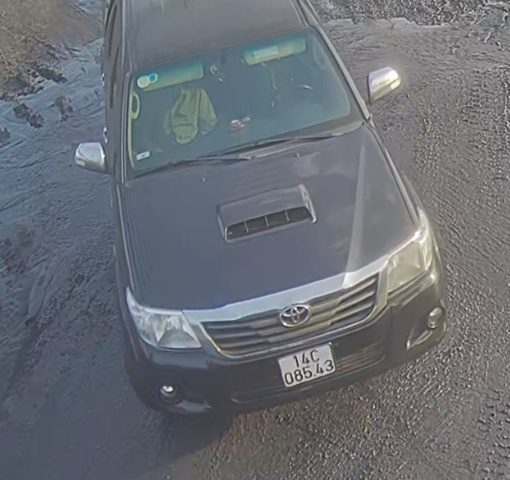vehicle plate: (272, 341, 344, 392)
